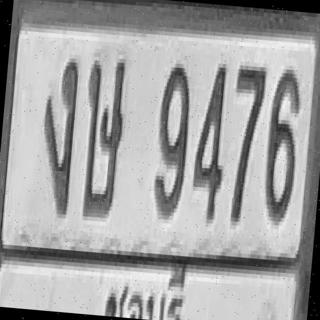A07: (36, 54, 80, 212)
A39: (78, 54, 129, 217)
N04: (190, 58, 232, 220)
N06: (262, 66, 303, 220)
N07: (225, 61, 266, 223)
N09: (151, 60, 194, 214)
P13: (98, 264, 188, 320)
